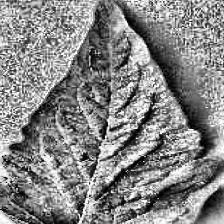spider mites: (0, 0, 216, 224)
